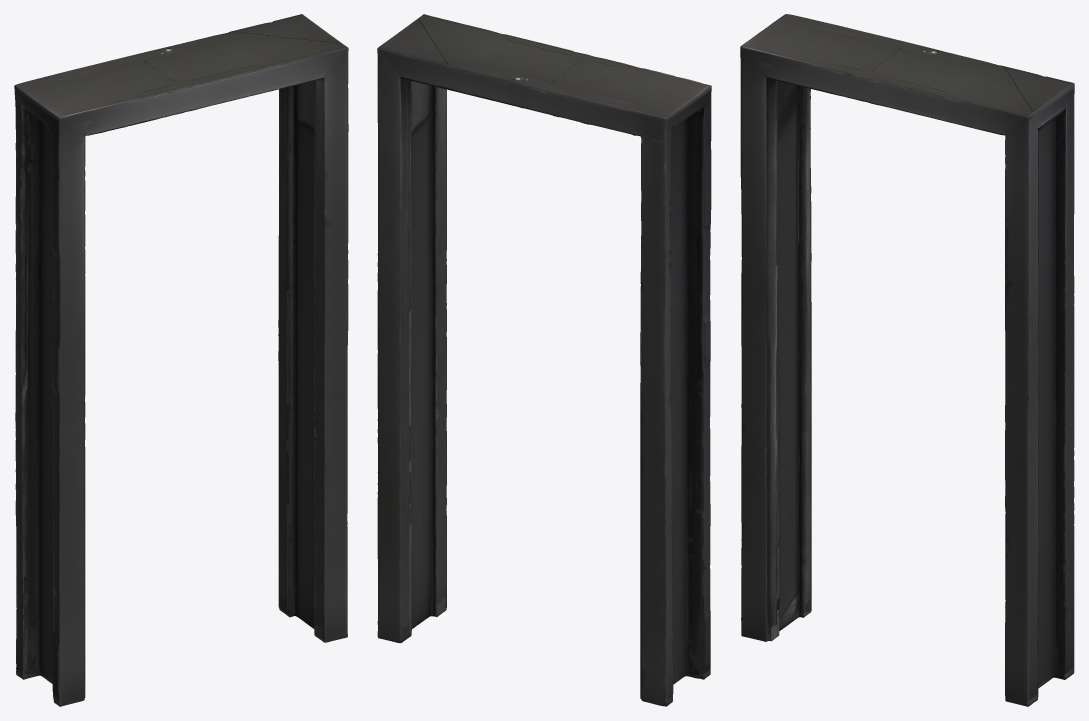
File: loft-stahlrahmen-klassisch.glb
3 renders of one model, left to right at view 1: azimuth 30°, elevation 25°; view 2: azimuth 150°, elevation 25°; view 3: azimuth 330°, elevation 25°, orthographic.
Bounding box in the file's own units: 1.03 × 2.01 × 0.2897.
Materials: 1 (1 with a texture image).
